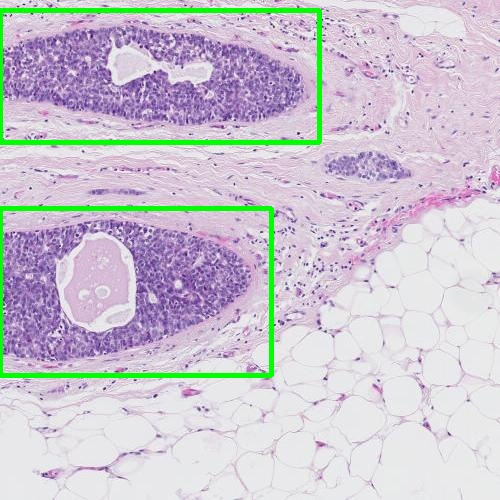DCIS: (0, 208, 271, 375), (0, 10, 319, 142)
